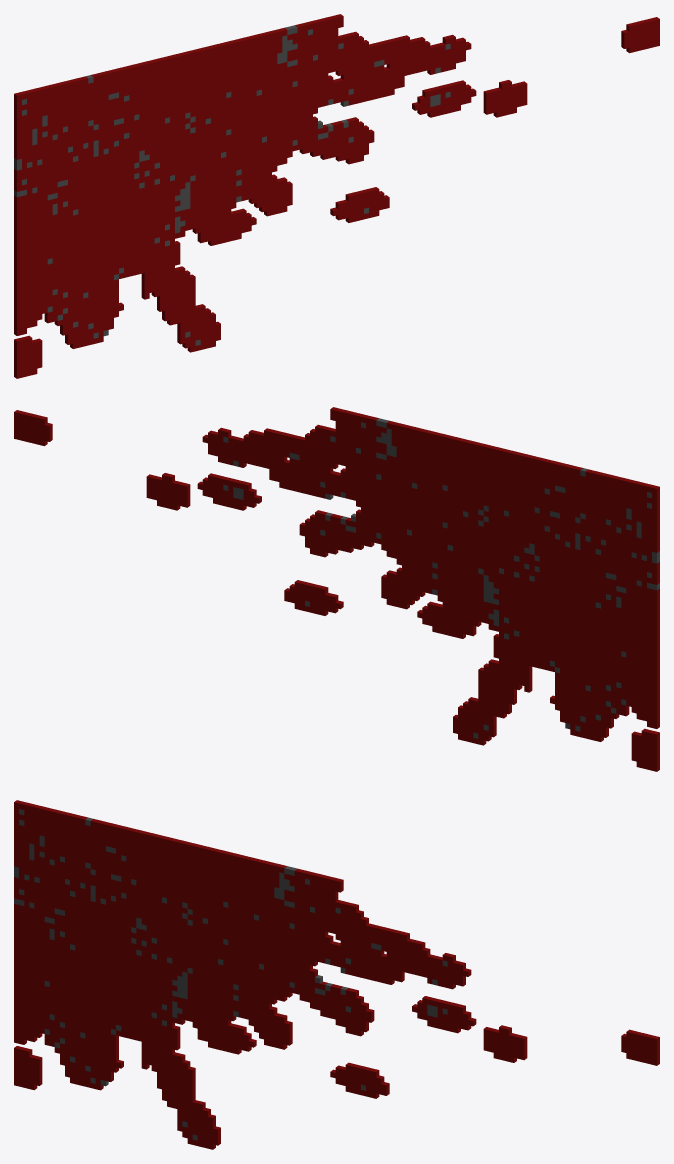
The model's file is you died-3.obj.
3 views of the same model, one above another, from view 1: azimuth 30°, elevation 25°; view 2: azimuth 150°, elevation 25°; view 3: azimuth 330°, elevation 25° (orthographic).
Visible parts, largest first — view 1: you died-3; view 2: you died-3; view 3: you died-3.
Boxes of the visible parts, x1=… form: you died-3: x1=14, y1=14, x2=659, y2=378; you died-3: x1=14, y1=407, x2=659, y2=771; you died-3: x1=14, y1=800, x2=659, y2=1149.
Size of the model in its own units: 126 by 56 by 1.
Materials: 1 (1 with a texture image).
